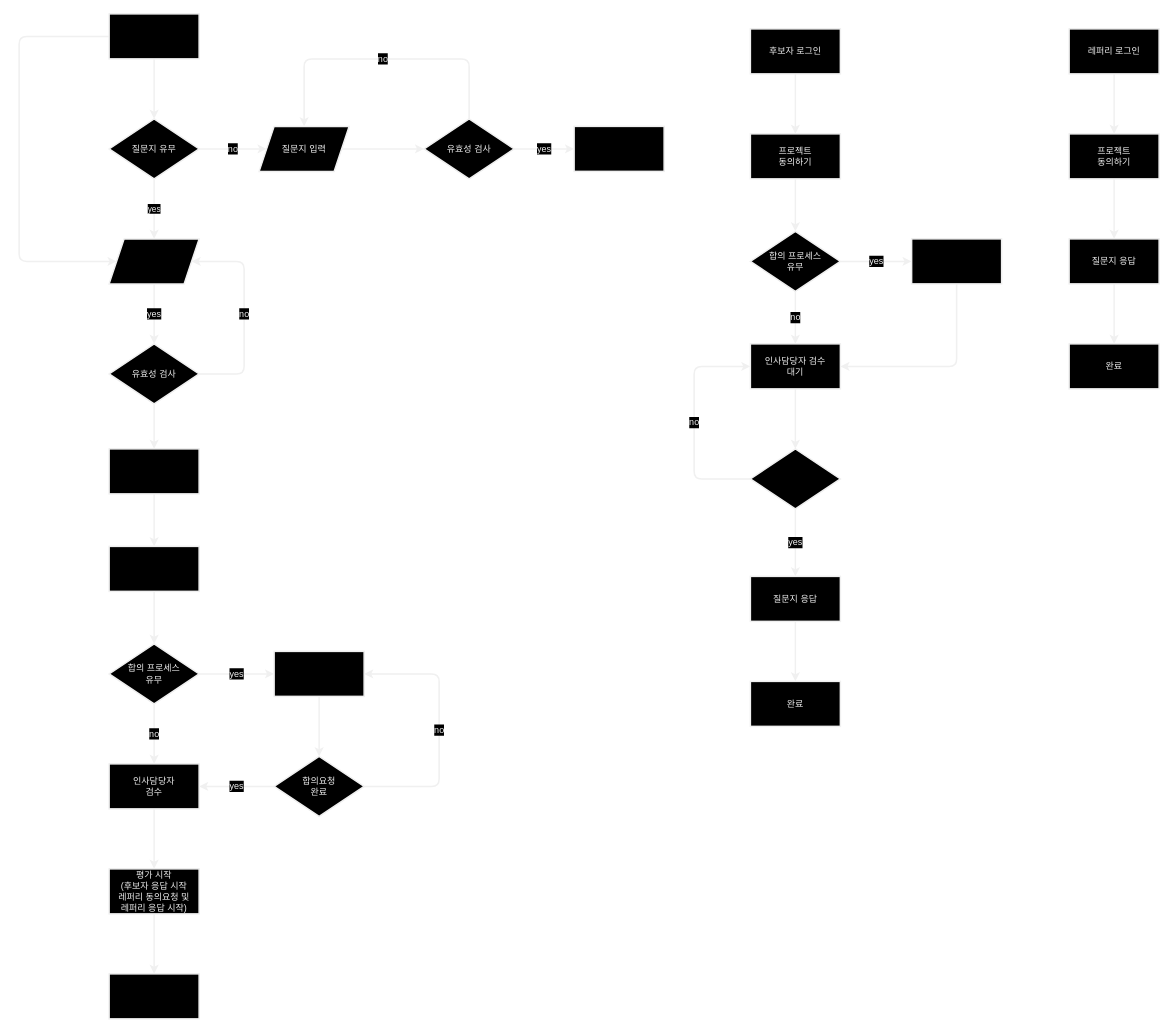
This 1172x1032 diagram has some shape labels left out. The centre of each missing label's shape, as x and y in pixels:
"검수 완료" goes at point (795, 478).
"인사담당자 로그인" goes at point (154, 36).
"질문지 생성" goes at point (618, 148).
"프로젝트 생성" goes at point (154, 471).
"프로젝트 입력" goes at point (154, 261).
"프로젝트 종료" goes at point (154, 996).
"합의요청 및 메세지 프로세스" goes at point (956, 261).
"후보자 동의요청" goes at point (154, 568).
"후보자 합의요청 대기 및 메시지 대화" goes at point (318, 673).
